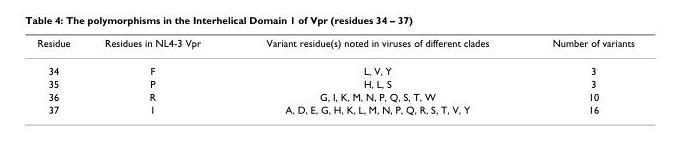table: (36, 36, 633, 115)
table column: (232, 36, 520, 115), (86, 36, 232, 115), (520, 36, 633, 115), (36, 36, 86, 115)
table column header: (36, 36, 633, 56)
table row: (36, 36, 633, 56), (36, 56, 633, 76), (36, 76, 633, 89), (36, 89, 633, 102), (36, 102, 633, 115)
